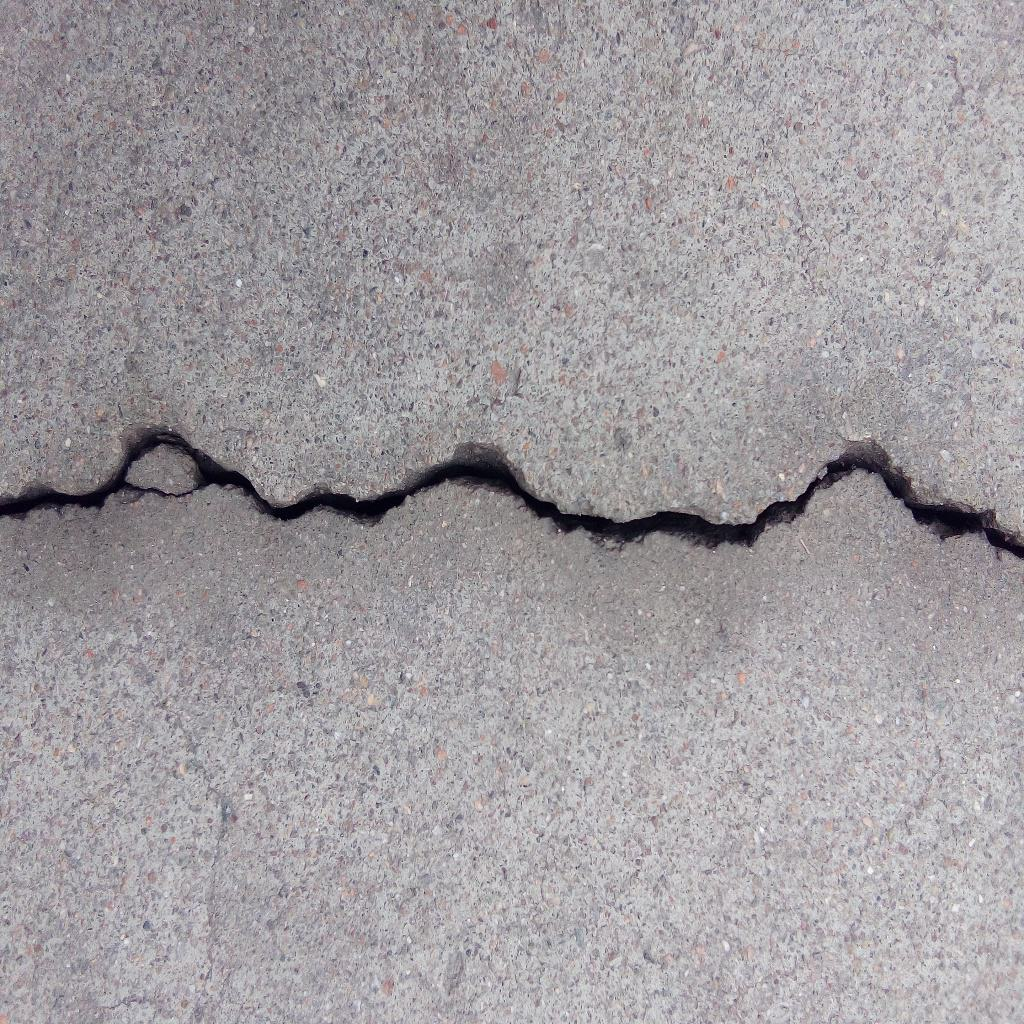Crack: (1, 424, 1024, 563)
